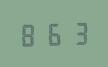eight: (18, 21, 40, 47)
six: (42, 20, 64, 46)
three: (65, 19, 87, 45)
